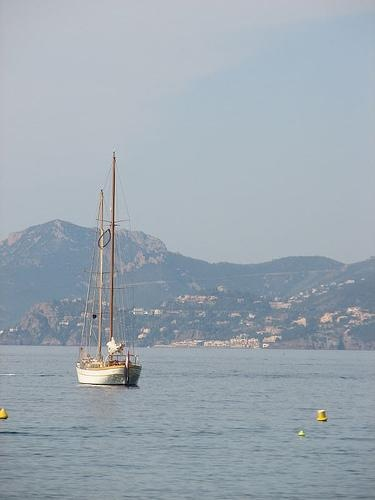fanchuan: (74, 146, 144, 386)
